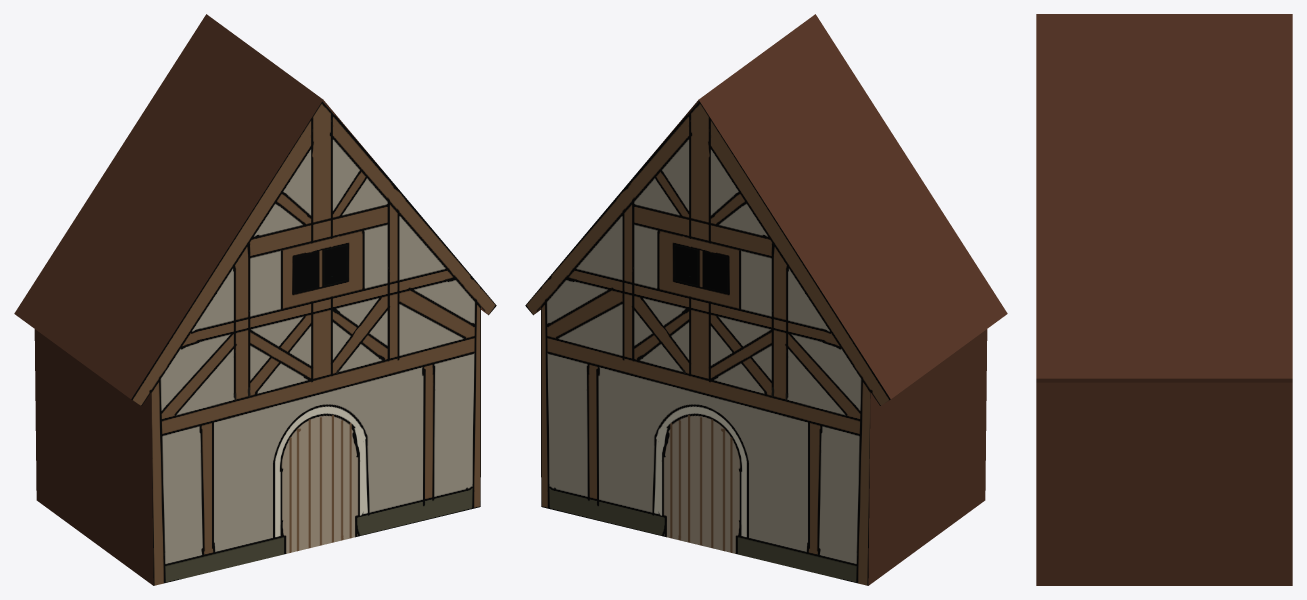
The model's file is House_2.fbx.
3 views of the same model, side by side, from view 1: azimuth 30°, elevation 25°; view 2: azimuth 150°, elevation 25°; view 3: azimuth 270°, elevation 25° (orthographic). The views are drawn at different scales.
Parts seen in each view (by area): view 1: House 2; view 2: House 2; view 3: House 2.
Part boxes in pixels (bbox=[...]): House 2: bbox=[14, 14, 496, 585]; House 2: bbox=[525, 14, 1007, 585]; House 2: bbox=[1036, 14, 1292, 585].
Bounding box in the file's own units: 74.7 × 87.02 × 41.39.
2 materials, 1 textured.
